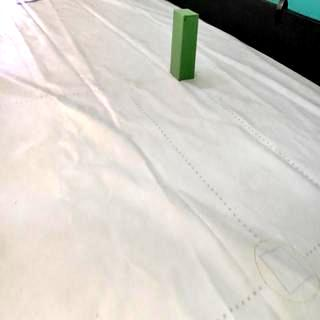greenbox: (170, 8, 198, 82)
